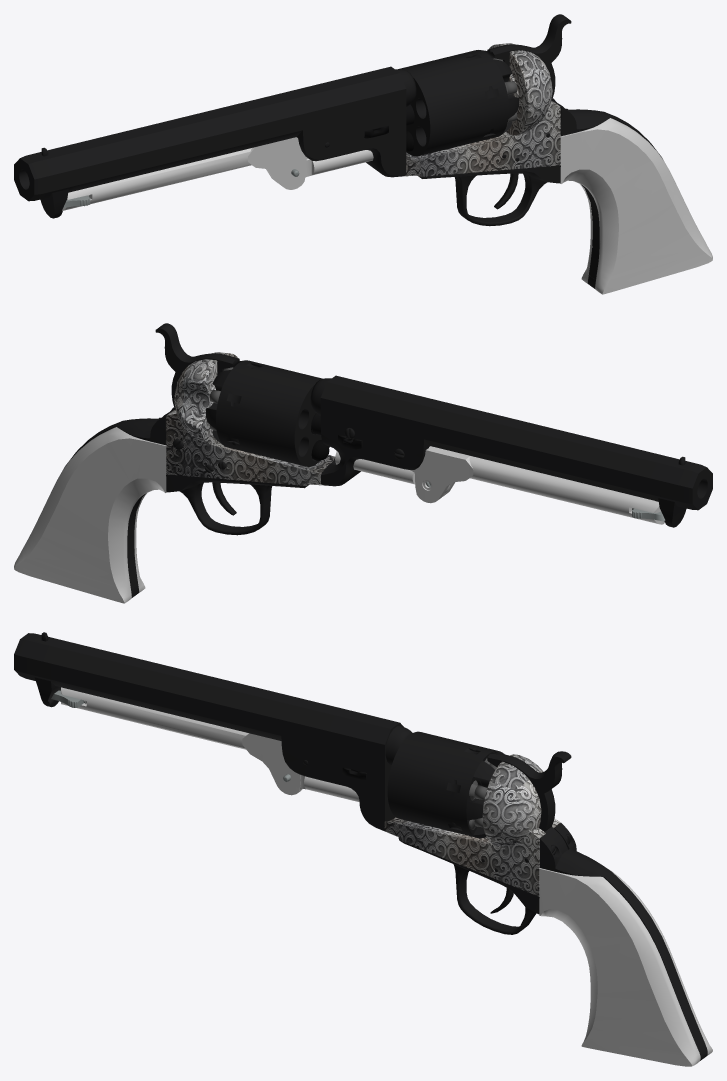
The model's file is ColtNavyBlack.fbx.
3 renders of one model, top to bottom at view 1: azimuth 30°, elevation 25°; view 2: azimuth 150°, elevation 25°; view 3: azimuth 330°, elevation 25°, orthographic.
Parts seen in each view (by area): view 1: Stvol, Wood_Ruckojat, Baraban, Ramka_Barabana, ZagruzRijag, Spuskovoi_Kruchok_Ramka, Kurok, Metal_Ruckojat, ZagruzRijagPorchen; view 2: Stvol, Wood_Ruckojat, Baraban, Ramka_Barabana, ZagruzRijag, Spuskovoi_Kruchok_Ramka, Kurok, Metal_Ruckojat, ZagruzRijagPorchen; view 3: Stvol, Wood_Ruckojat, Ramka_Barabana, Baraban, ZagruzRijag, Metal_Ruckojat, Kurok, Spuskovoi_Kruchok_Ramka, ZagruzRijagPorchen.
Boxes of the visible parts, box(x1,y1,x2,y2) form: Stvol: box(14, 66, 416, 218); Wood_Ruckojat: box(560, 118, 712, 294); Baraban: box(398, 50, 518, 156); Ramka_Barabana: box(404, 43, 560, 176); ZagruzRijag: box(62, 137, 307, 210); Spuskovoi_Kruchok_Ramka: box(417, 165, 599, 279); Kurok: box(487, 14, 571, 102); Metal_Ruckojat: box(552, 99, 662, 288); ZagruzRijagPorchen: box(305, 150, 373, 177); Stvol: box(310, 375, 712, 527); Wood_Ruckojat: box(14, 427, 166, 603); Baraban: box(206, 360, 329, 466); Ramka_Barabana: box(166, 352, 335, 485); ZagruzRijag: box(410, 446, 664, 524); Spuskovoi_Kruchok_Ramka: box(127, 474, 309, 588); Kurok: box(155, 323, 239, 411); Metal_Ruckojat: box(64, 408, 174, 597); ZagruzRijagPorchen: box(335, 451, 449, 493); Stvol: box(14, 632, 412, 831); Wood_Ruckojat: box(539, 868, 712, 1066); Ramka_Barabana: box(384, 754, 560, 896); Baraban: box(387, 731, 504, 838); ZagruzRijag: box(61, 687, 302, 795); Metal_Ruckojat: box(539, 823, 707, 1060); Kurok: box(487, 751, 571, 853); Spuskovoi_Kruchok_Ramka: box(399, 840, 539, 934); ZagruzRijagPorchen: box(300, 775, 359, 802).
Size of the model in its own units: 722 by 283 by 85.98.
